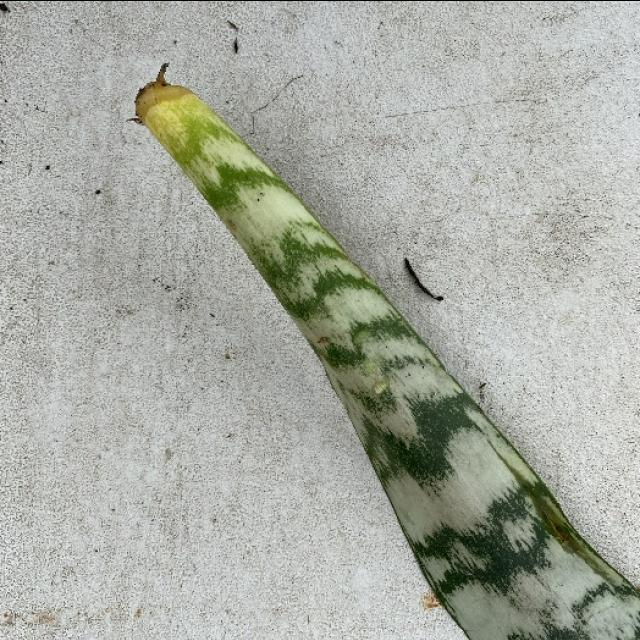organik: (120, 67, 640, 640)
